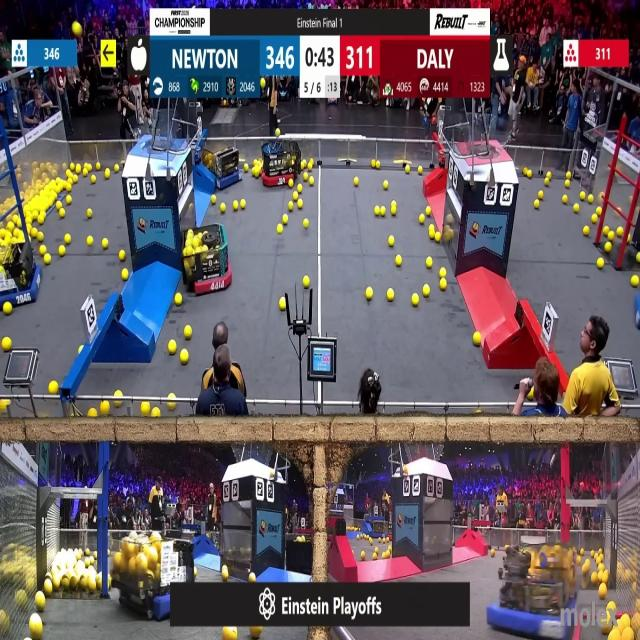ball_airborne: (224, 628, 236, 640), (72, 23, 82, 37), (276, 129, 281, 138)
ball_ground: (28, 617, 40, 640), (36, 593, 45, 612), (2, 338, 11, 353), (43, 581, 52, 596), (169, 341, 178, 355), (598, 585, 607, 599), (101, 401, 110, 415), (141, 404, 150, 417), (180, 350, 188, 364), (602, 622, 610, 636), (48, 382, 57, 394), (472, 334, 480, 347), (364, 287, 372, 300), (623, 631, 634, 640), (221, 566, 228, 580), (4, 304, 12, 316), (387, 288, 394, 301), (184, 325, 191, 338), (631, 276, 639, 287), (152, 408, 160, 419), (175, 292, 182, 304), (426, 256, 433, 268), (413, 293, 420, 305), (1, 399, 8, 411), (591, 572, 598, 584), (91, 582, 98, 594), (90, 410, 98, 420), (280, 299, 286, 312), (121, 270, 128, 281), (304, 276, 310, 288), (102, 239, 109, 249), (441, 280, 448, 290), (88, 237, 95, 247), (388, 237, 395, 247), (597, 258, 604, 268), (169, 400, 176, 410), (37, 233, 44, 243), (31, 230, 38, 240), (396, 255, 402, 266), (423, 285, 429, 296), (118, 250, 124, 261), (38, 212, 44, 223), (17, 234, 24, 243), (60, 246, 66, 256), (420, 214, 426, 224), (39, 245, 45, 255), (44, 254, 50, 264), (65, 235, 71, 245), (441, 269, 447, 279), (434, 233, 440, 243), (220, 204, 226, 214), (250, 572, 256, 582), (605, 243, 611, 253), (618, 228, 624, 238), (304, 218, 310, 228), (607, 232, 613, 242), (252, 168, 258, 178), (607, 602, 614, 610), (240, 201, 246, 210), (234, 202, 240, 211), (603, 225, 609, 234), (428, 231, 434, 240), (573, 204, 579, 213), (292, 190, 298, 199), (75, 166, 81, 175), (66, 182, 72, 191), (299, 162, 305, 171), (283, 214, 288, 224), (585, 225, 590, 235), (278, 223, 283, 233), (391, 206, 396, 216), (381, 206, 386, 216), (534, 200, 539, 210), (448, 215, 453, 225), (115, 390, 122, 397), (579, 191, 585, 199), (596, 208, 602, 216), (406, 165, 412, 173), (244, 165, 250, 173), (169, 392, 175, 400), (566, 172, 572, 180), (72, 175, 78, 183), (66, 170, 72, 178), (384, 552, 390, 560), (82, 168, 88, 176), (61, 209, 66, 218), (88, 209, 93, 218), (288, 203, 293, 212), (212, 194, 217, 203), (589, 193, 594, 202), (105, 170, 110, 179), (309, 163, 314, 172), (592, 215, 598, 222), (92, 176, 98, 183), (418, 168, 424, 175), (115, 399, 121, 406), (83, 560, 89, 567), (563, 194, 568, 202), (636, 253, 640, 263), (67, 197, 72, 205), (565, 182, 570, 190), (360, 553, 365, 561), (527, 170, 532, 178), (370, 161, 375, 169), (373, 208, 378, 216), (376, 162, 381, 170), (108, 574, 113, 582), (354, 177, 358, 186), (384, 180, 388, 189), (426, 207, 430, 216), (114, 166, 119, 173), (307, 180, 312, 187), (297, 201, 301, 209), (538, 190, 542, 198), (544, 178, 548, 186), (297, 184, 301, 192), (97, 164, 101, 172), (492, 550, 496, 558), (288, 180, 292, 188), (58, 202, 62, 210), (192, 568, 196, 576), (371, 555, 376, 561), (546, 172, 550, 179), (580, 550, 584, 557), (388, 545, 392, 551)
goal: (460, 118, 516, 158), (128, 116, 188, 152)
robot_blue: (497, 543, 584, 636), (110, 530, 196, 620), (0, 243, 40, 309), (200, 139, 242, 189), (366, 520, 393, 540)
robot_red: (184, 224, 232, 292), (260, 137, 304, 186)
